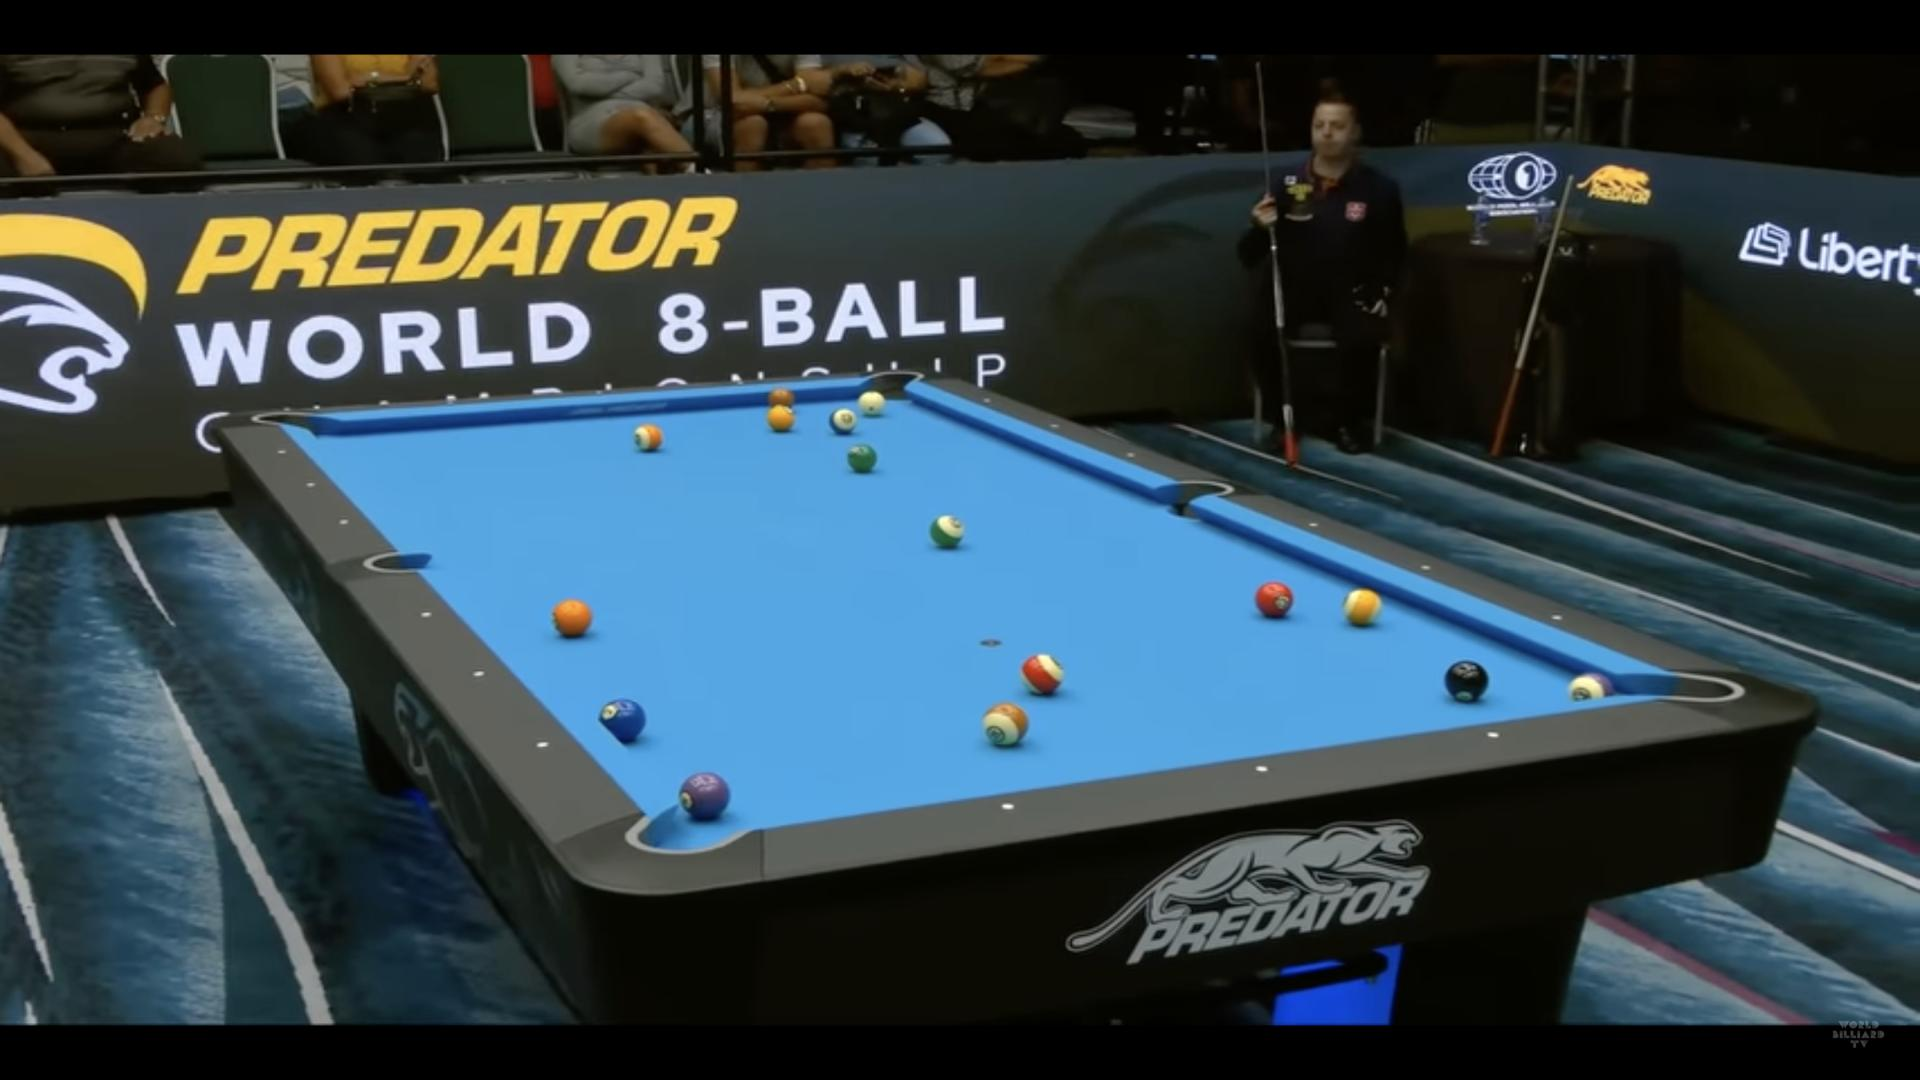Black: (1445, 661, 1489, 702)
Cue: (858, 390, 886, 415)
Dot: (472, 666, 488, 682), (533, 738, 550, 753), (418, 608, 435, 622), (303, 479, 319, 493), (1001, 800, 1015, 815), (1486, 728, 1501, 742), (335, 514, 351, 527), (274, 446, 290, 459), (1254, 764, 1269, 777), (1549, 612, 1564, 625), (1418, 560, 1432, 574), (1307, 518, 1320, 531), (1126, 450, 1137, 460), (982, 396, 993, 406), (1050, 422, 1062, 431), (737, 378, 746, 388), (446, 398, 455, 407), (593, 389, 604, 397)
Solid: (679, 771, 731, 816), (599, 699, 646, 742), (551, 599, 593, 636), (1254, 582, 1294, 617), (848, 443, 877, 472), (767, 405, 795, 431), (769, 388, 794, 406)
Striped: (982, 702, 1030, 745), (1021, 654, 1065, 695), (1344, 588, 1382, 625), (1569, 673, 1614, 702), (930, 514, 964, 547), (634, 425, 665, 451), (829, 407, 857, 434)
